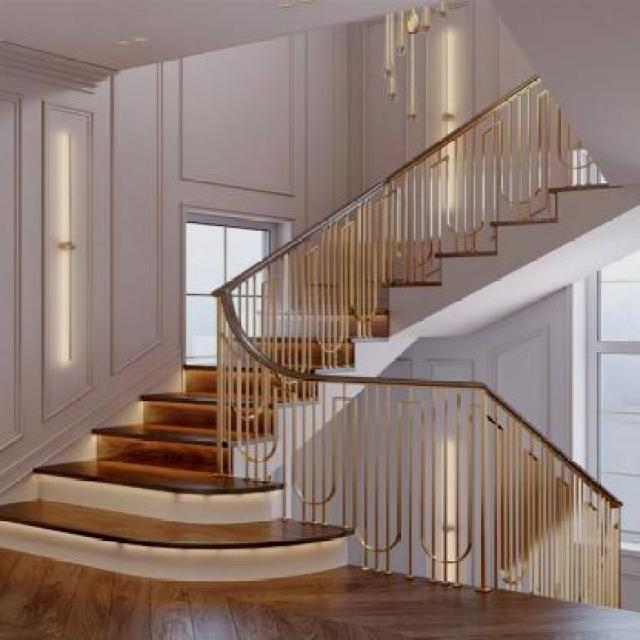stair: (5, 178, 533, 576)
